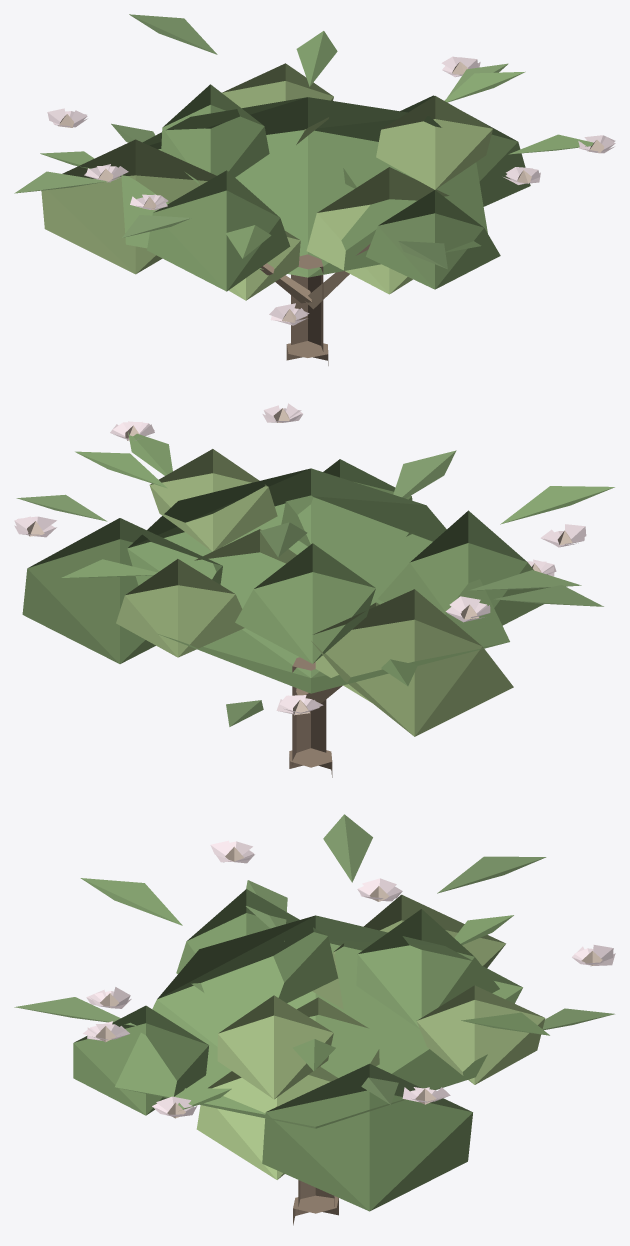
The model's file is shu.cha@flowering__bloom.glb.
3 views of the same model, one above another, from view 1: azimuth 30°, elevation 25°; view 2: azimuth 150°, elevation 25°; view 3: azimuth 270°, elevation 25° (orthographic). The views are drawn at different scales.
Visible parts, largest first — view 1: shu.cha@flowering__bloom; view 2: shu.cha@flowering__bloom; view 3: shu.cha@flowering__bloom.
Boxes of the visible parts, left/top/right/bottom form: shu.cha@flowering__bloom: left=14, top=14, right=615, bottom=365; shu.cha@flowering__bloom: left=14, top=403, right=614, bottom=777; shu.cha@flowering__bloom: left=14, top=814, right=615, bottom=1225.
Bounding box in the file's own units: 4.79 × 2.57 × 4.31.
